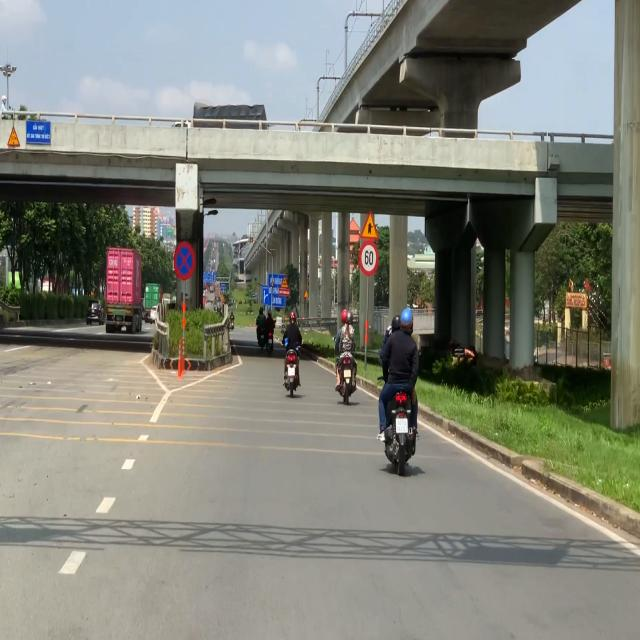Cam dung va do: (172, 240, 196, 282)
Giao voi duong khong uu tien: (358, 207, 380, 242)
Nguy hiem: (7, 126, 20, 146)
Toc do toi da: (359, 242, 378, 276)
